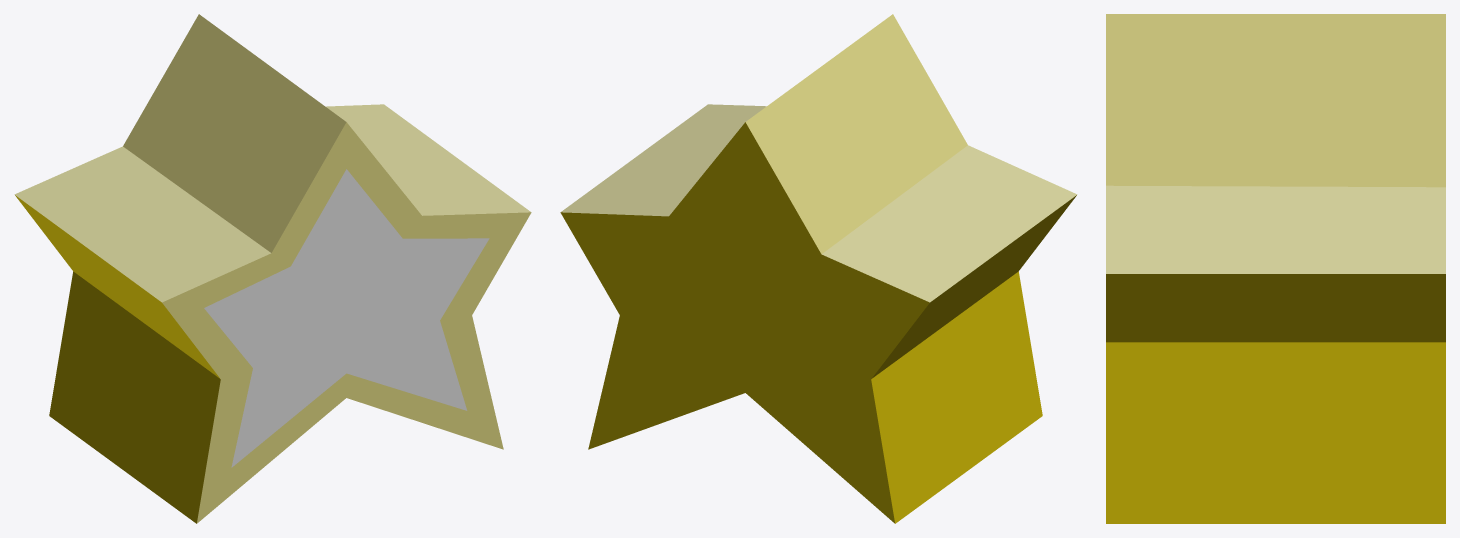
The model's file is HolidayStarProgressMeterLightning.glb.
The picture shows the model from 3 angles, left to right: view 1: azimuth 30°, elevation 25°; view 2: azimuth 150°, elevation 25°; view 3: azimuth 270°, elevation 25°; orthographic projection. The views are drawn at different scales.
Parts seen in each view (by area): view 1: HolidayStarProgressMeterLightning; view 2: HolidayStarProgressMeterLightning; view 3: HolidayStarProgressMeterLightning.
Part boxes in pixels (bbox=[...]): HolidayStarProgressMeterLightning: bbox=[14, 14, 531, 523]; HolidayStarProgressMeterLightning: bbox=[560, 14, 1077, 523]; HolidayStarProgressMeterLightning: bbox=[1106, 14, 1445, 523].
Bounding box in the file's own units: 0.887 × 0.8394 × 0.6135.
